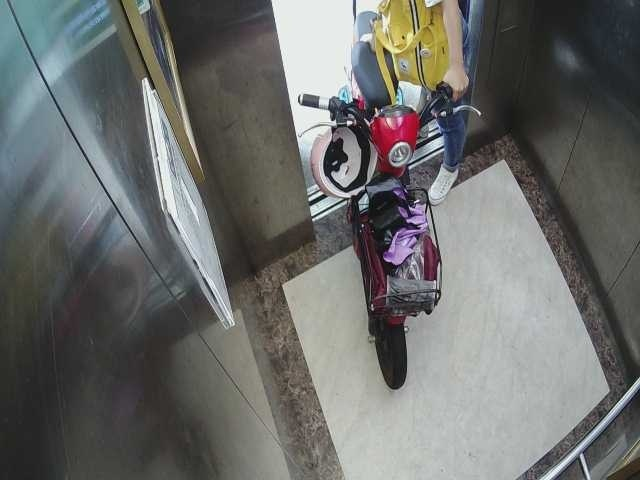emotor: (300, 3, 462, 412)
